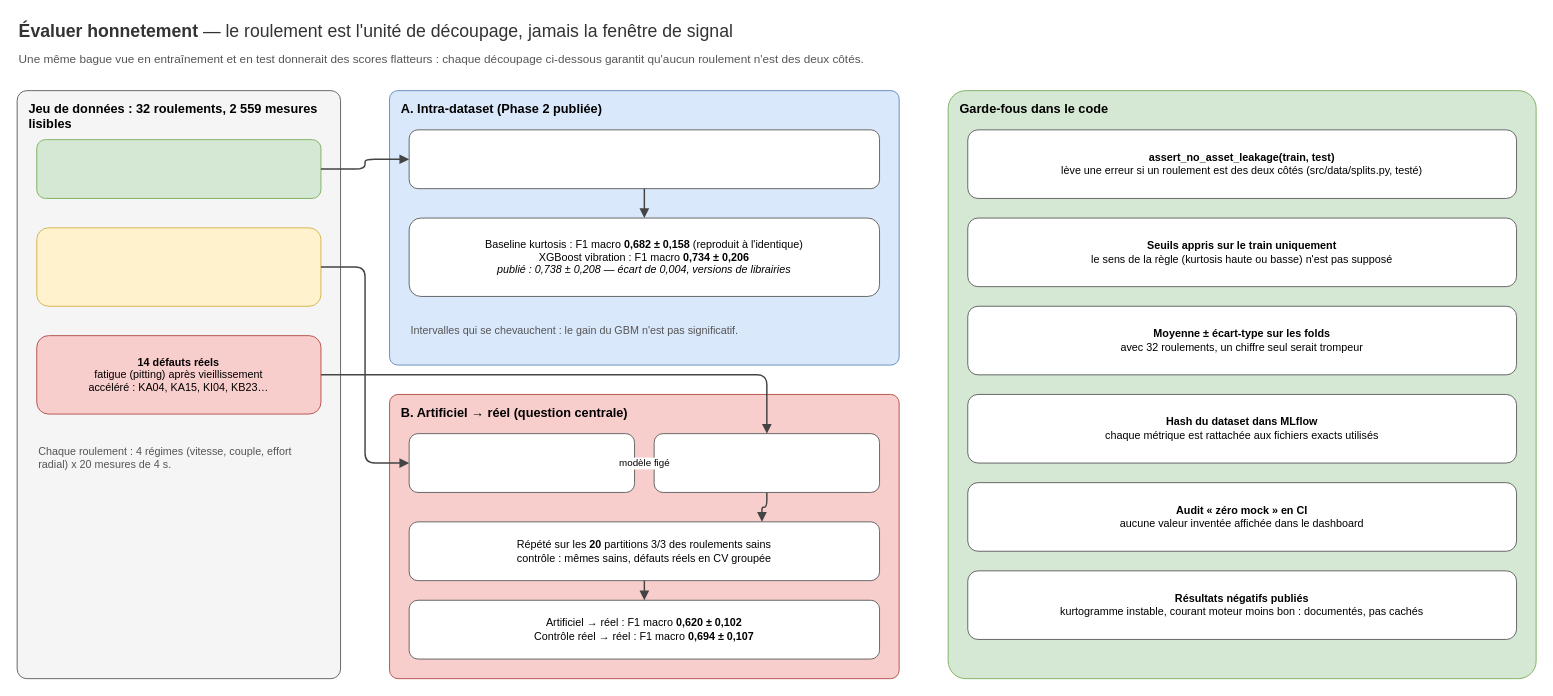
The diagram is 1553 pixels wide and 696 high, and some of its shapes have lost their labels. The shapes that lost their labels are listed below. From the top down, each one's centre as x and y in pixels, then its label:
point 178,168: 6 sains K001 à K006
point 644,159: StratifiedGroupKFold 5 folds groupe = roulement · tous états confondus
point 178,266: 12 défauts artificiels électroérosion, gravure, perçage KA01…KA09, KI01…KI08
point 521,462: Train : 12 artificiels + 3 sains
point 766,462: Test : 14 réels + 3 autres sains
